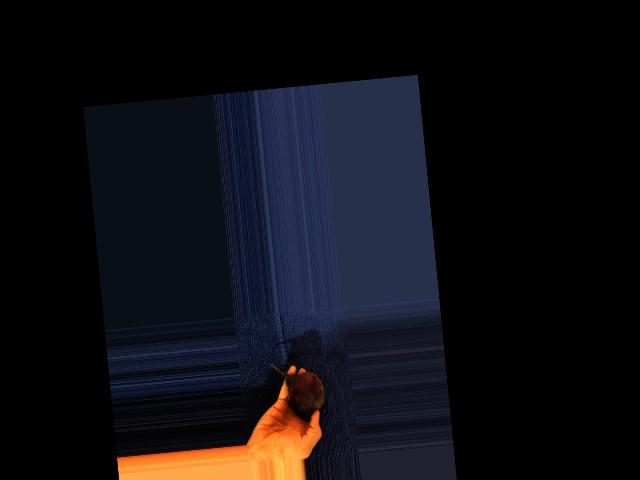beet: (268, 357, 329, 423)
